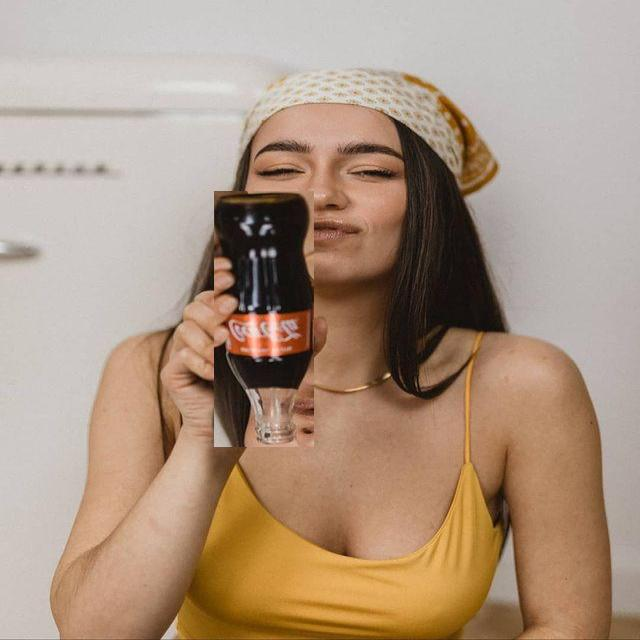coca-cola: (214, 191, 314, 447)
